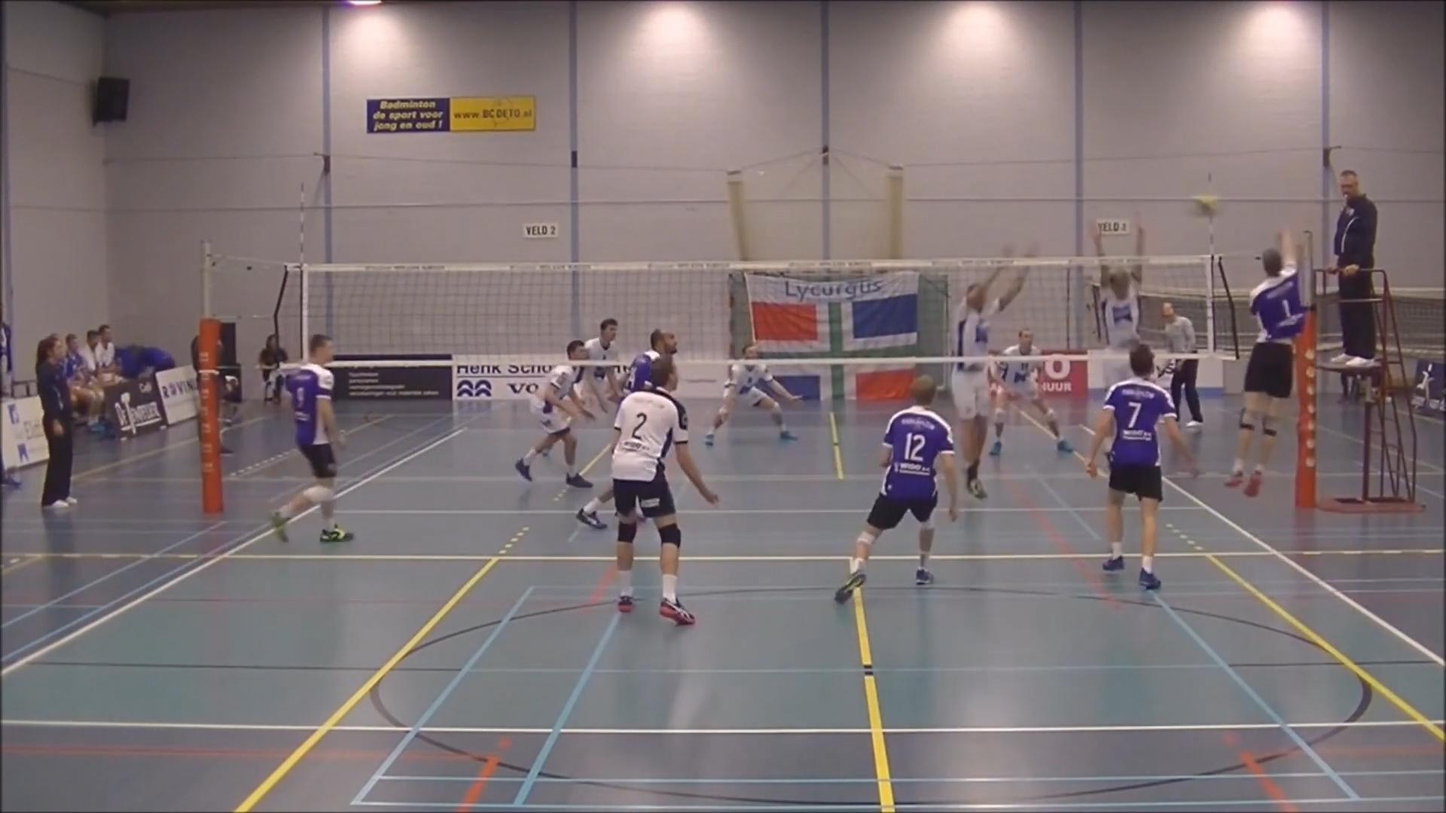Attack: (1222, 218, 1337, 499)
Block: (940, 235, 1035, 512), (1079, 216, 1152, 475)
Player: (612, 356, 718, 625), (834, 376, 956, 602), (1085, 344, 1195, 589), (566, 314, 685, 539), (270, 334, 353, 542), (989, 329, 1072, 455), (704, 343, 801, 446), (514, 364, 593, 488), (584, 319, 621, 413)
ball: (1185, 191, 1219, 220)
